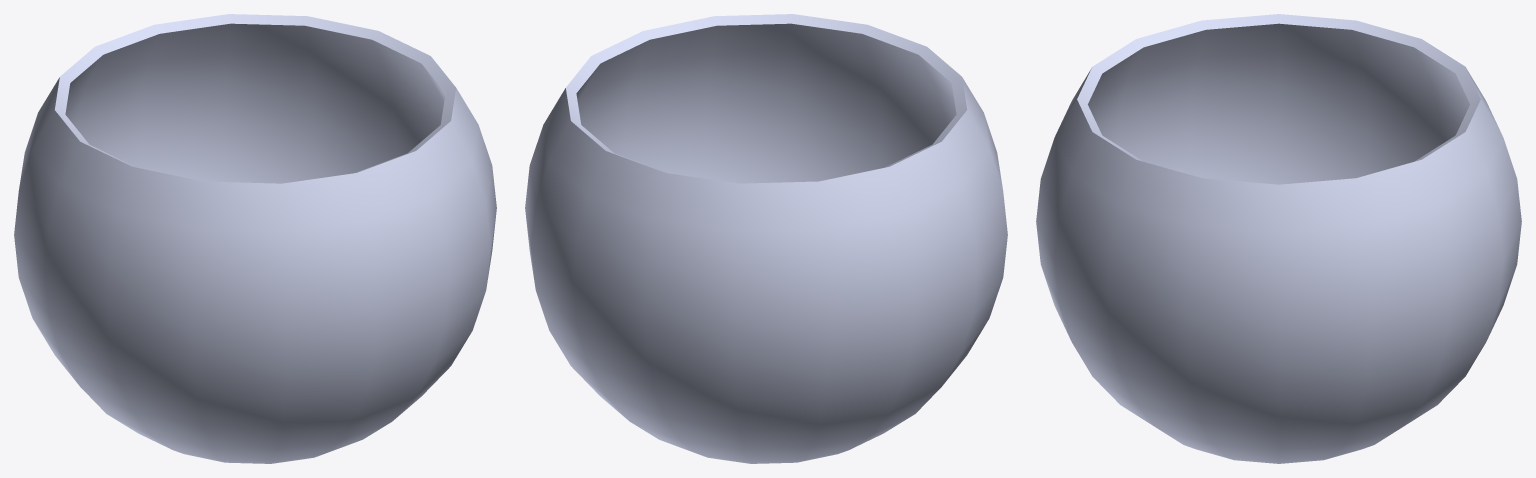
The model's file is Prop_Fishtank.FBX.
3 views of the same model, side by side, from view 1: azimuth 30°, elevation 25°; view 2: azimuth 150°, elevation 25°; view 3: azimuth 270°, elevation 25° (orthographic).
Parts seen in each view (by area): view 1: Sphere001; view 2: Sphere001; view 3: Sphere001.
Part boxes in pixels (x1,y1,x2,y2): Sphere001: (14, 14, 496, 463); Sphere001: (525, 14, 1007, 463); Sphere001: (1036, 14, 1521, 463).
Size of the model in its own units: 30 by 21.47 by 30.
